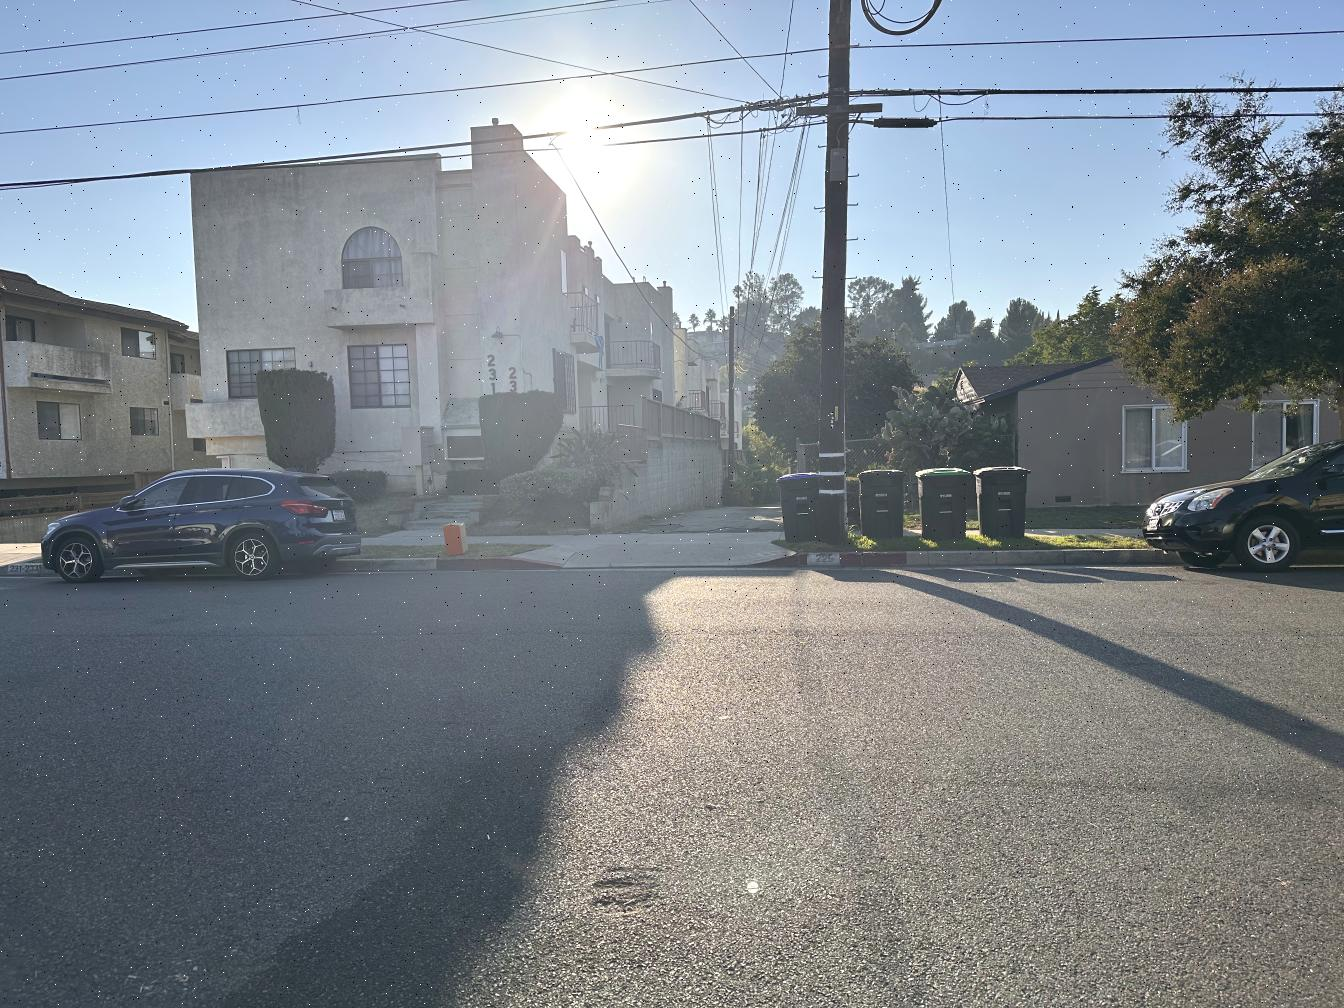curbs-laRr: (914, 547, 1155, 569)
orange box: (439, 522, 471, 556)
